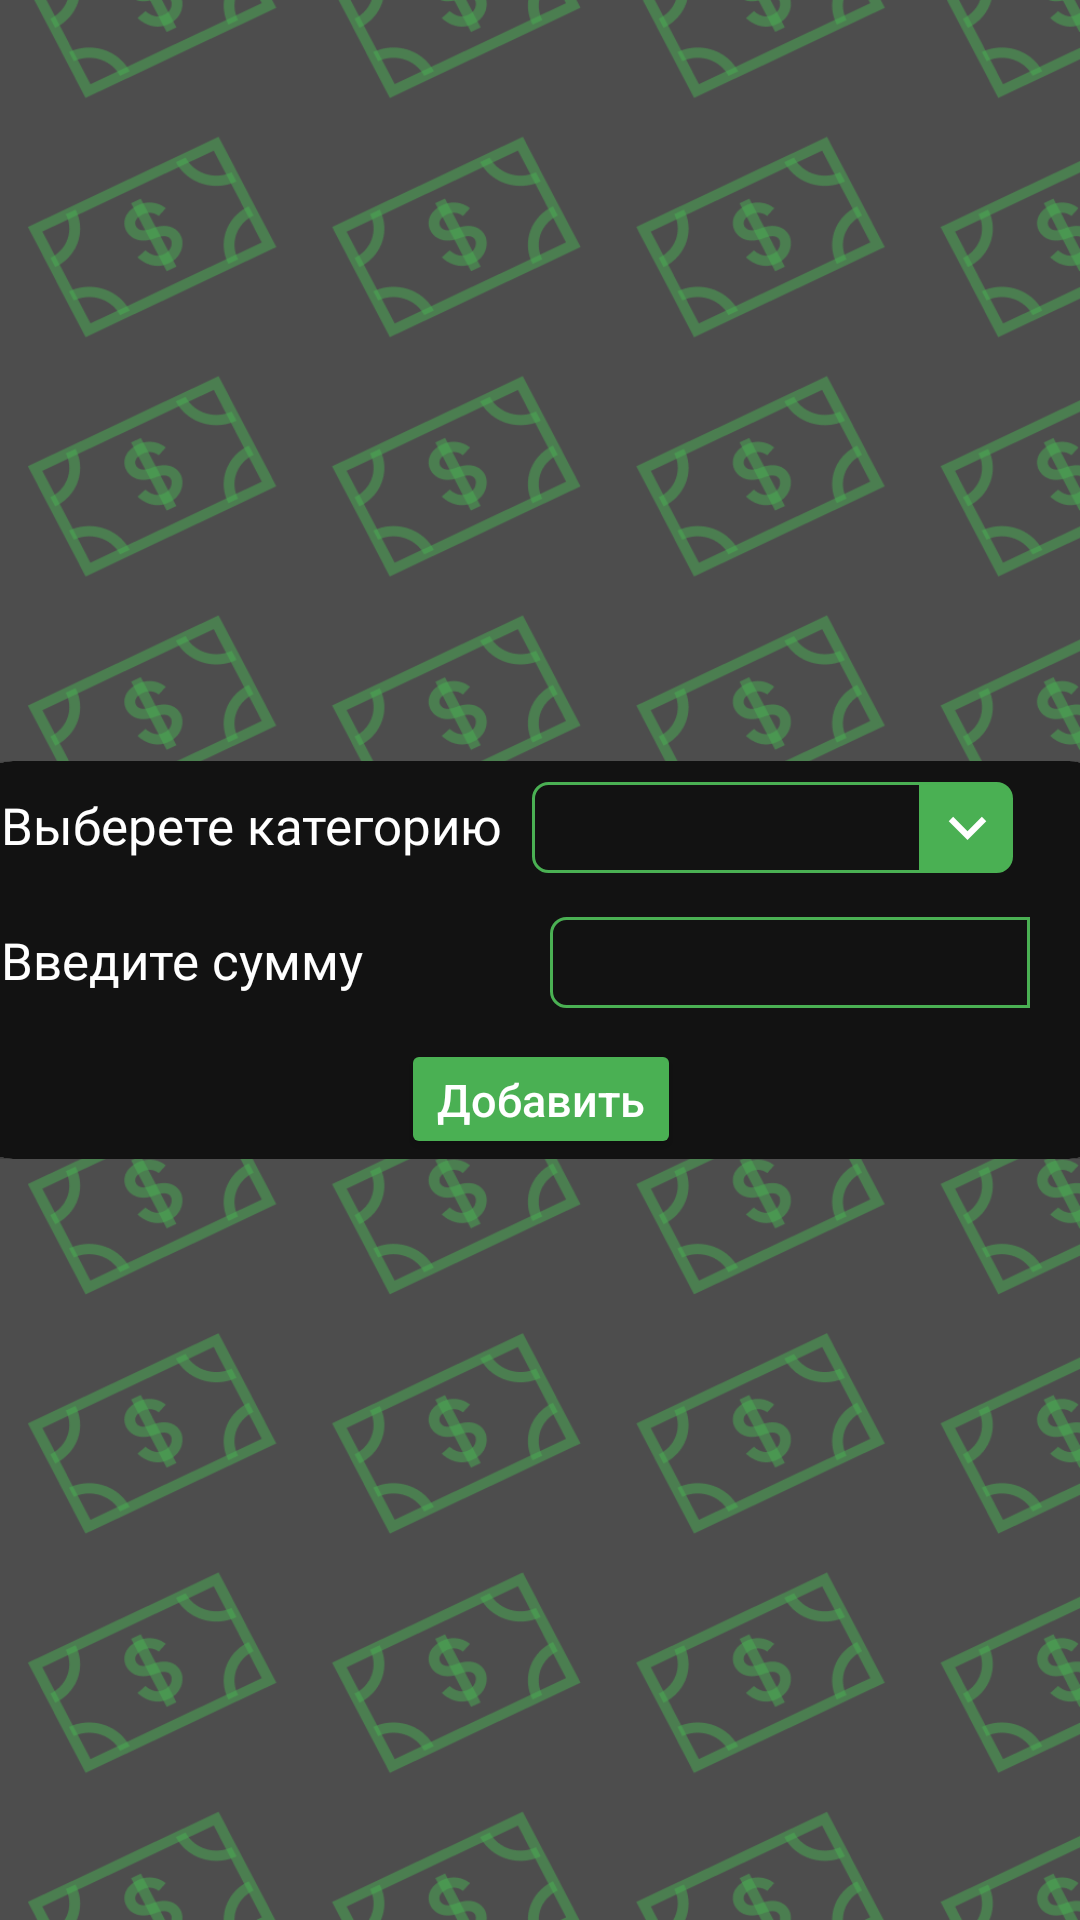

Screen size 1080px x 1920px. Icon name, then its box in pixels as [left=x1, top=y1, right=x2, bottom=y2]:
arrow down: [left=922, top=782, right=1013, bottom=873]
